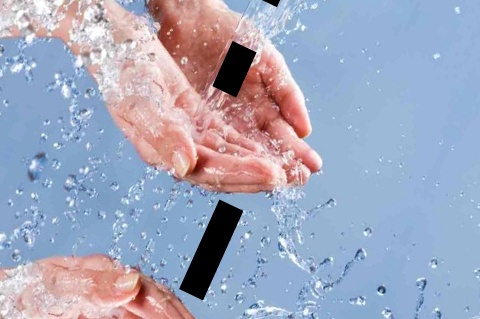washing hand: (77, 0, 427, 271)
